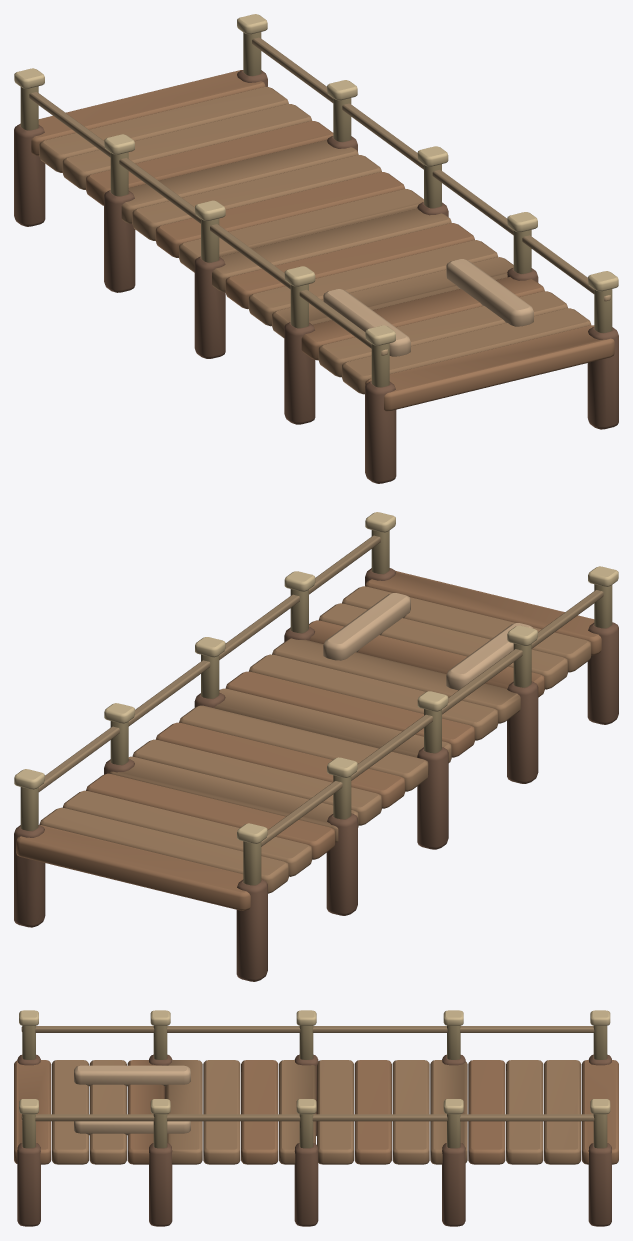
File: ocean_pier.glb
3 views of the same model, one above another, from view 1: azimuth 30°, elevation 25°; view 2: azimuth 150°, elevation 25°; view 3: azimuth 270°, elevation 25° (orthographic). The views are drawn at different scales.
Visible parts, largest first — view 1: Ocean_Pier; view 2: Ocean_Pier; view 3: Ocean_Pier.
Boxes of the visible parts, <box> form: Ocean_Pier: <box>14,14,618,483</box>; Ocean_Pier: <box>14,512,618,981</box>; Ocean_Pier: <box>14,1010,618,1226</box>.
Bounding box in the file's own units: 3.37 × 1.94 × 8.79.
